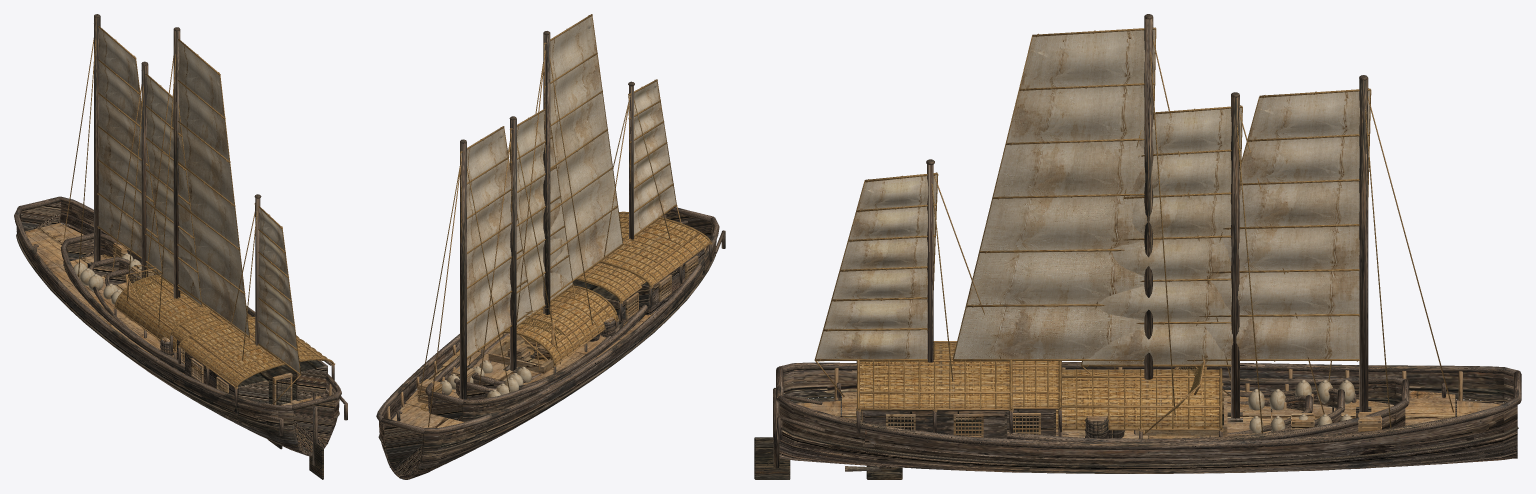
The picture shows the model from 3 angles, left to right: view 1: azimuth 30°, elevation 25°; view 2: azimuth 150°, elevation 25°; view 3: azimuth 270°, elevation 25°; orthographic projection. The views are drawn at different scales.
Parts seen in each view (by area): view 1: multi__timber_and_rigging, multi__far_timber, Far_Sailcloth_main, Sailcloth_main, cargo__timber_and_rigging, Far_Sailcloth_fore, Sailcloth_fore, ferry__timber_and_rigging, Far_Sailcloth_single, Far_Sailcloth_aft, Sailcloth_single, Sailcloth_aft (+3 smaller); view 2: multi__timber_and_rigging, multi__far_timber, Far_Sailcloth_main, cargo__timber_and_rigging, Far_Sailcloth_fore, Sailcloth_main, ferry__timber_and_rigging, Sailcloth_fore, Far_Sailcloth_single, Far_Sailcloth_aft, cargo__far_timber, Sailcloth_single (+3 smaller); view 3: multi__timber_and_rigging, Sailcloth_main, multi__far_timber, Sailcloth_fore, Far_Sailcloth_main, Sailcloth_single, Far_Sailcloth_fore, cargo__timber_and_rigging, Sailcloth_aft, Far_Sailcloth_single, ferry__timber_and_rigging, Far_Sailcloth_aft (+2 smaller).
Part boxes in pixels (x1=…): multi__timber_and_rigging: x1=14, y1=14, x2=347, y2=479; multi__far_timber: x1=14, y1=14, x2=347, y2=477; Far_Sailcloth_main: x1=178, y1=41, x2=247, y2=324; Sailcloth_main: x1=178, y1=45, x2=248, y2=335; cargo__timber_and_rigging: x1=61, y1=61, x2=282, y2=449; Far_Sailcloth_fore: x1=98, y1=28, x2=160, y2=263; Sailcloth_fore: x1=99, y1=31, x2=161, y2=271; ferry__timber_and_rigging: x1=89, y1=256, x2=211, y2=360; Far_Sailcloth_single: x1=146, y1=76, x2=200, y2=296; Far_Sailcloth_aft: x1=259, y1=208, x2=299, y2=367; Sailcloth_single: x1=146, y1=78, x2=201, y2=304; Sailcloth_aft: x1=259, y1=209, x2=300, y2=373; multi__timber_and_rigging: x1=376, y1=14, x2=725, y2=479; multi__far_timber: x1=376, y1=15, x2=725, y2=479; Far_Sailcloth_main: x1=544, y1=16, x2=622, y2=295; cargo__timber_and_rigging: x1=425, y1=109, x2=647, y2=422; Far_Sailcloth_fore: x1=461, y1=128, x2=531, y2=356; Sailcloth_main: x1=544, y1=18, x2=621, y2=293; ferry__timber_and_rigging: x1=454, y1=285, x2=626, y2=399; Sailcloth_fore: x1=461, y1=130, x2=531, y2=354; Far_Sailcloth_single: x1=511, y1=111, x2=572, y2=324; Far_Sailcloth_aft: x1=629, y1=81, x2=674, y2=234; cargo__far_timber: x1=425, y1=111, x2=647, y2=420; Sailcloth_single: x1=511, y1=115, x2=572, y2=319; multi__timber_and_rigging: x1=754, y1=14, x2=1521, y2=479; Sailcloth_main: x1=954, y1=29, x2=1155, y2=358; multi__far_timber: x1=754, y1=14, x2=1521, y2=479; Sailcloth_fore: x1=1200, y1=90, x2=1370, y2=358; Far_Sailcloth_main: x1=955, y1=31, x2=1154, y2=358; Sailcloth_single: x1=1082, y1=108, x2=1241, y2=364; Far_Sailcloth_fore: x1=1202, y1=92, x2=1369, y2=358; cargo__timber_and_rigging: x1=866, y1=92, x2=1409, y2=479; Sailcloth_aft: x1=818, y1=175, x2=936, y2=359; Far_Sailcloth_single: x1=1082, y1=109, x2=1241, y2=364; ferry__timber_and_rigging: x1=1058, y1=368, x2=1344, y2=438; Far_Sailcloth_aft: x1=816, y1=175, x2=936, y2=358.
Size of the model in its own units: 6.21 by 15.99 by 23.91.
Materials: 1 (1 with a texture image).
